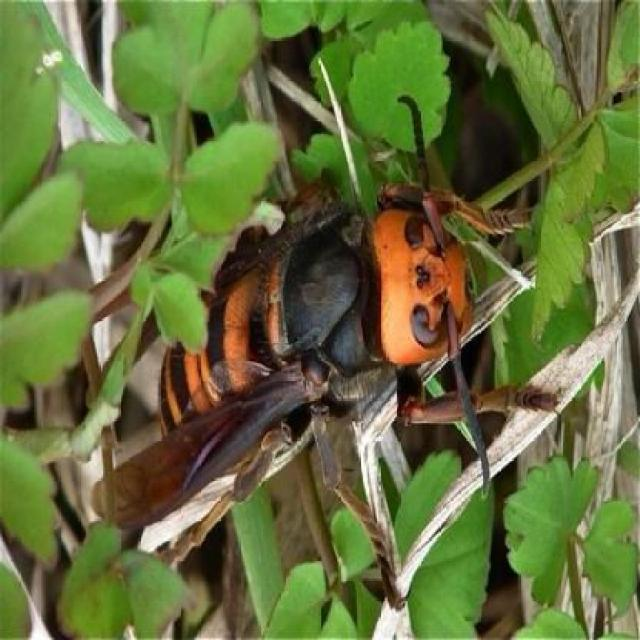Wasp: (90, 94, 566, 508)
